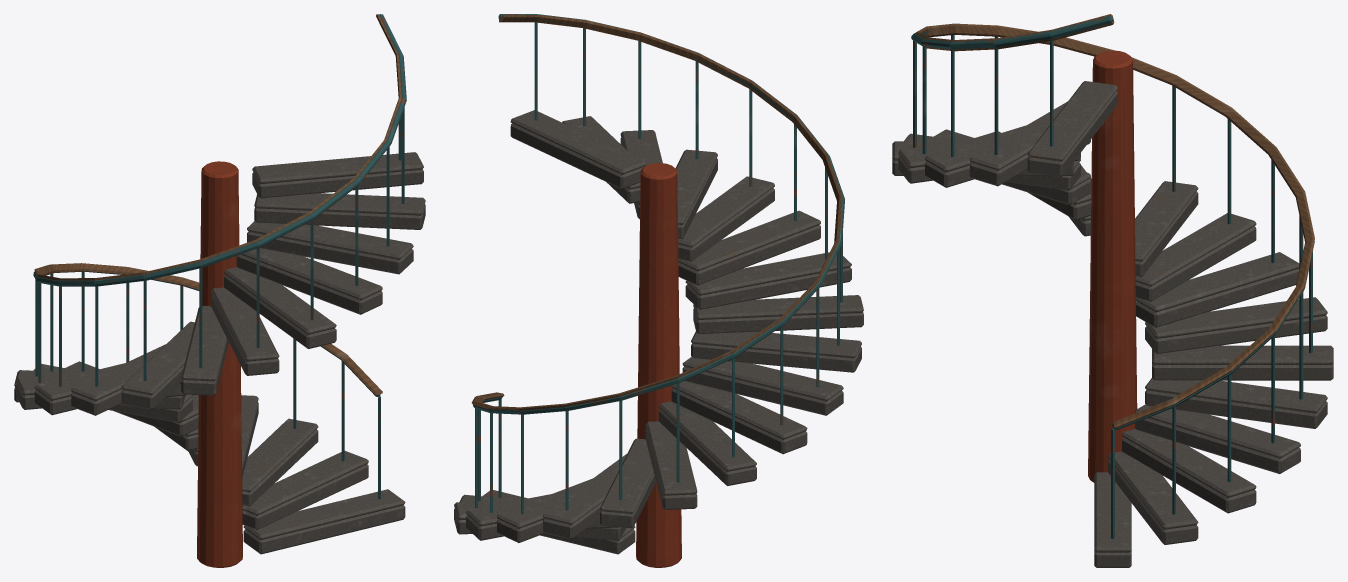
File: WK_STRUCT_STAIR_SPIRAL_A_01.glb
3 views of the same model, side by side, from view 1: azimuth 30°, elevation 25°; view 2: azimuth 150°, elevation 25°; view 3: azimuth 270°, elevation 25° (orthographic). The views are drawn at different scales.
Parts seen in each view (by area): view 1: WK_STRUCT_STAIR_SPIRAL_A_01; view 2: WK_STRUCT_STAIR_SPIRAL_A_01; view 3: WK_STRUCT_STAIR_SPIRAL_A_01.
Boxes of the visible parts, x1,y1,x2,y2 form: WK_STRUCT_STAIR_SPIRAL_A_01: (14,14,425,567); WK_STRUCT_STAIR_SPIRAL_A_01: (454,14,863,567); WK_STRUCT_STAIR_SPIRAL_A_01: (892,14,1333,567).
Bounding box in the file's own units: 3.52 × 4.81 × 3.52.
4 materials, 4 textured.
